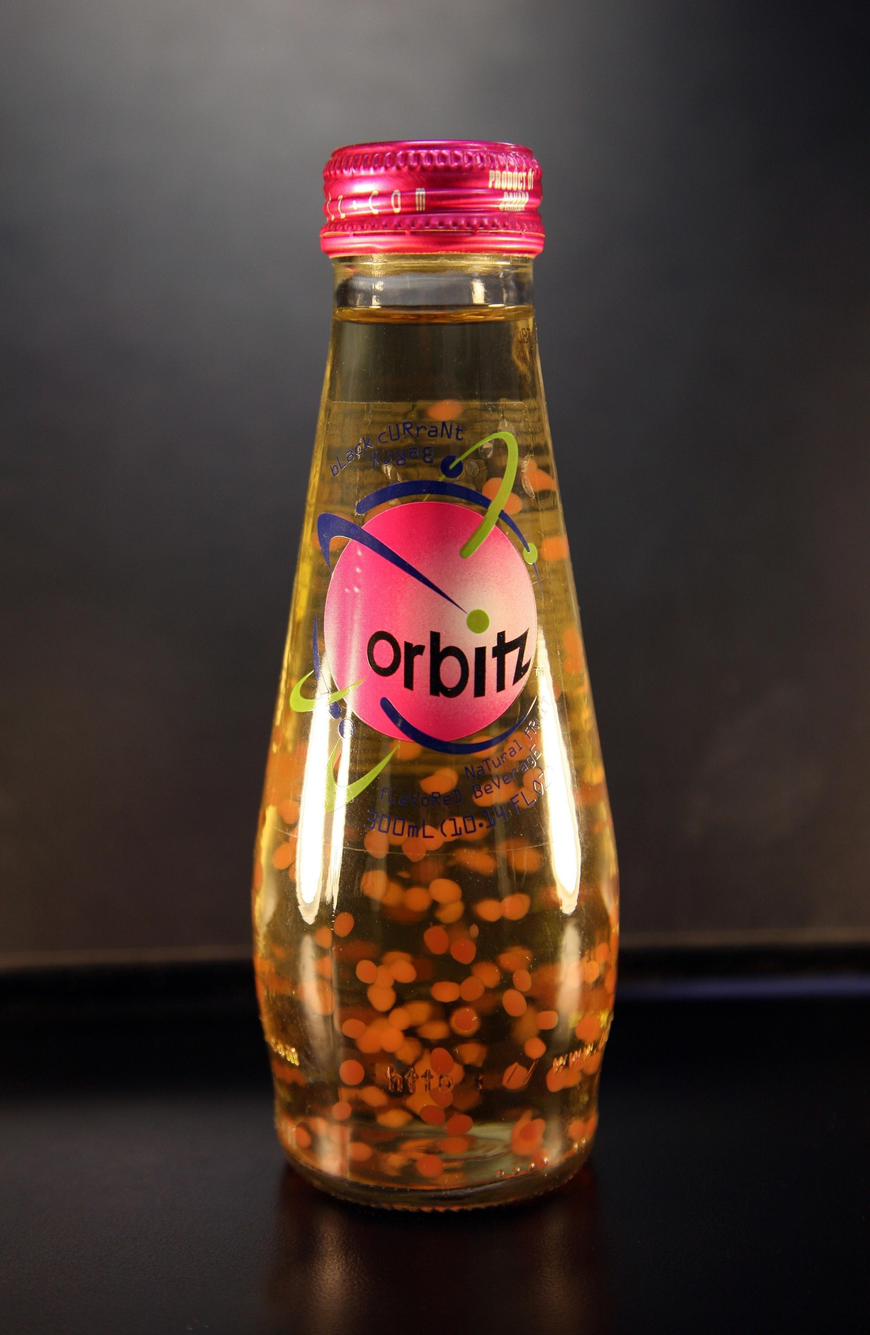bottle-glass: (236, 128, 630, 1221)
